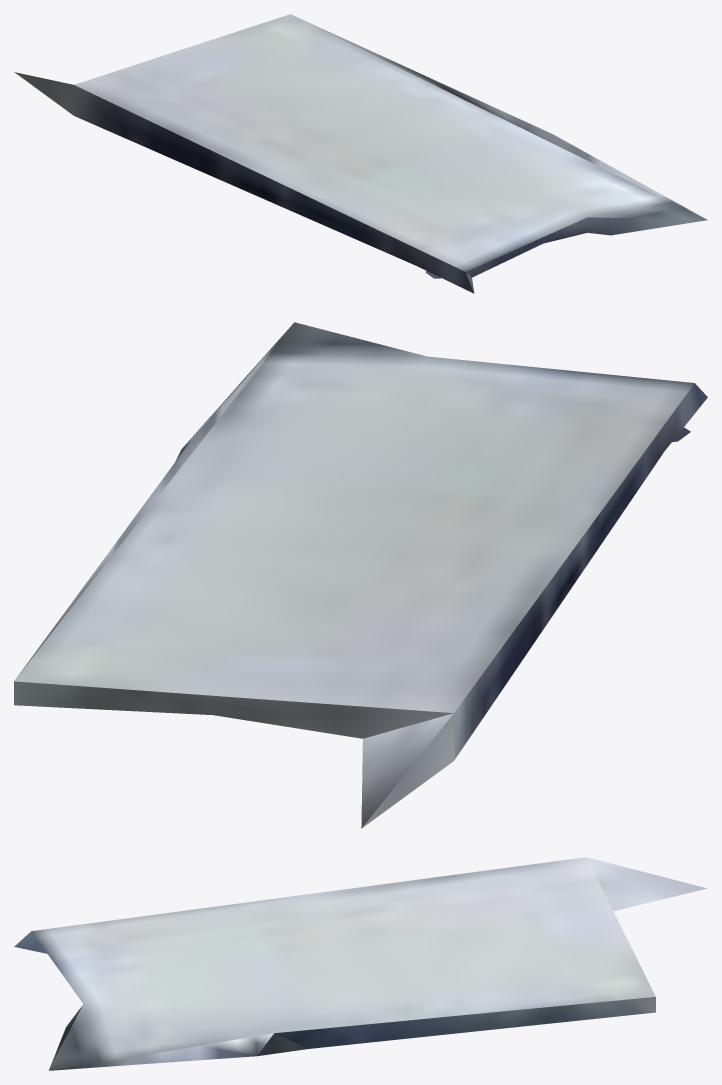
3 renders of one model, top to bottom at view 1: azimuth 30°, elevation 25°; view 2: azimuth 150°, elevation 25°; view 3: azimuth 270°, elevation 25°, orthographic. The views are drawn at different scales.
Visible parts, largest first — view 1: 3043627270436140745_0; view 2: 3043627270436140745_0; view 3: 3043627270436140745_0.
Part boxes in pixels (left/top/right/bottom): 3043627270436140745_0: left=14, top=14, right=707, bottom=293; 3043627270436140745_0: left=14, top=322, right=707, bottom=828; 3043627270436140745_0: left=14, top=857, right=707, bottom=1070.
Bounding box in the file's own units: 7.67 × 0.6165 × 12.34.
Materials: 1 (1 with a texture image).
